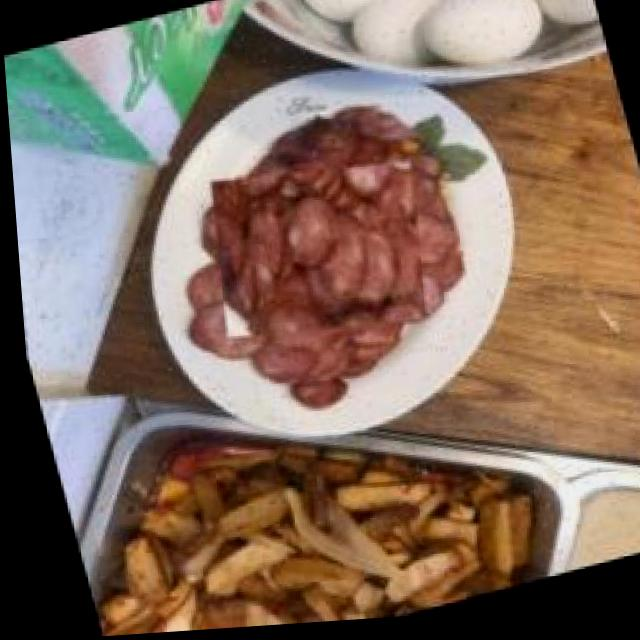chinese_sausage: (189, 126, 443, 379)
